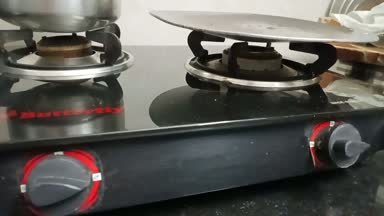flame_gas_off: (184, 33, 376, 174), (3, 24, 116, 216)
